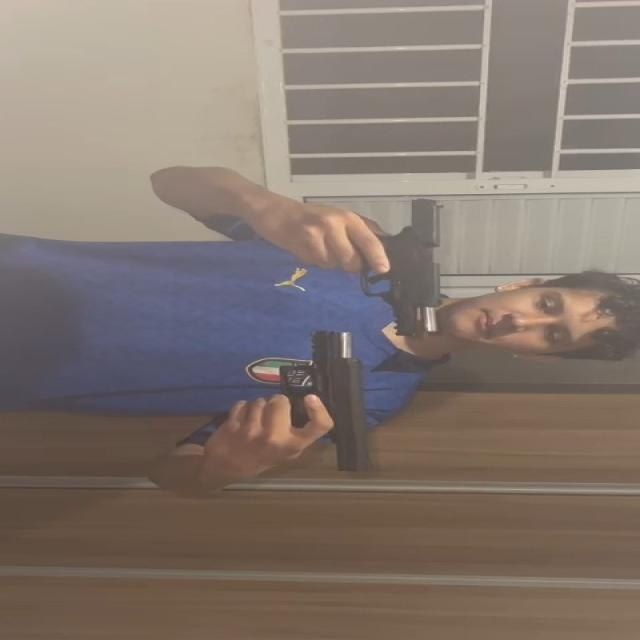guns: (280, 328, 370, 477), (353, 197, 445, 337)
